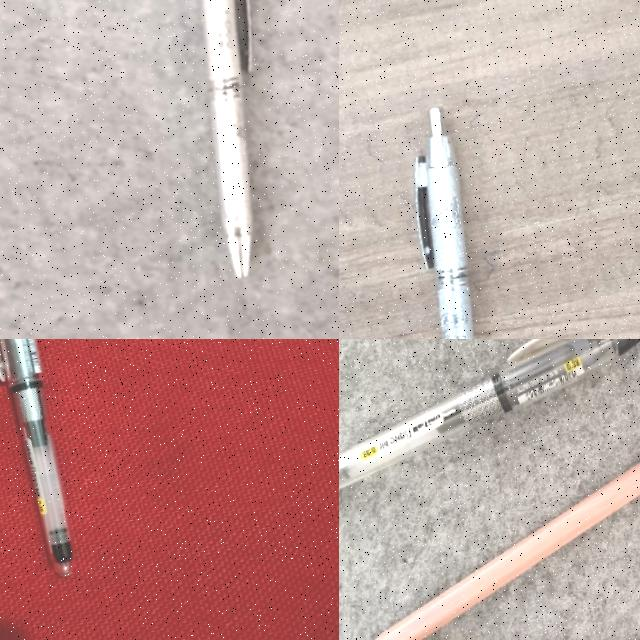pen: (339, 339, 640, 499), (0, 339, 73, 576)
pencil: (378, 462, 640, 640)
signature pen: (202, 0, 252, 277), (415, 108, 473, 338), (339, 605, 640, 640)
